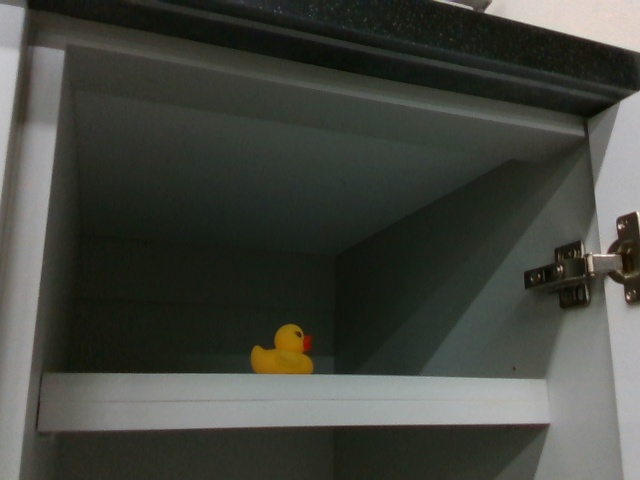duck: (246, 319, 317, 375)
